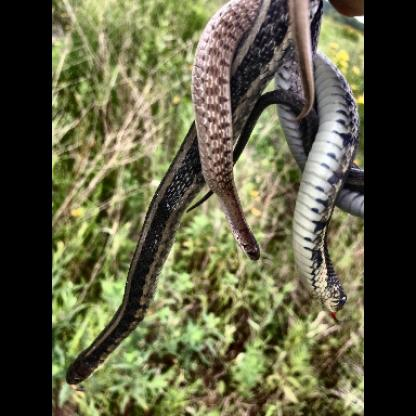Snake: (68, 159, 176, 393), (188, 5, 277, 266), (290, 60, 354, 316)
